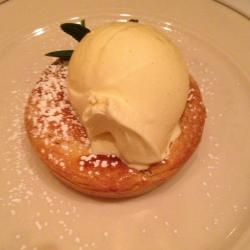apple_pie: (23, 50, 216, 206)
icecream: (63, 20, 197, 170)
